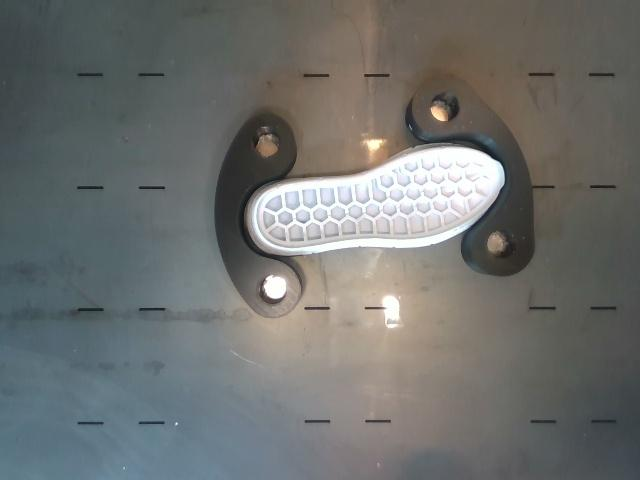shoes: (255, 148, 504, 250)
